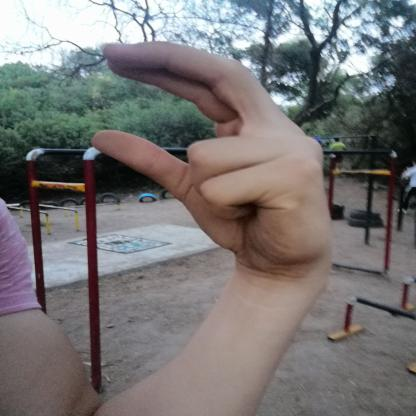DHELL: (76, 34, 355, 281)
